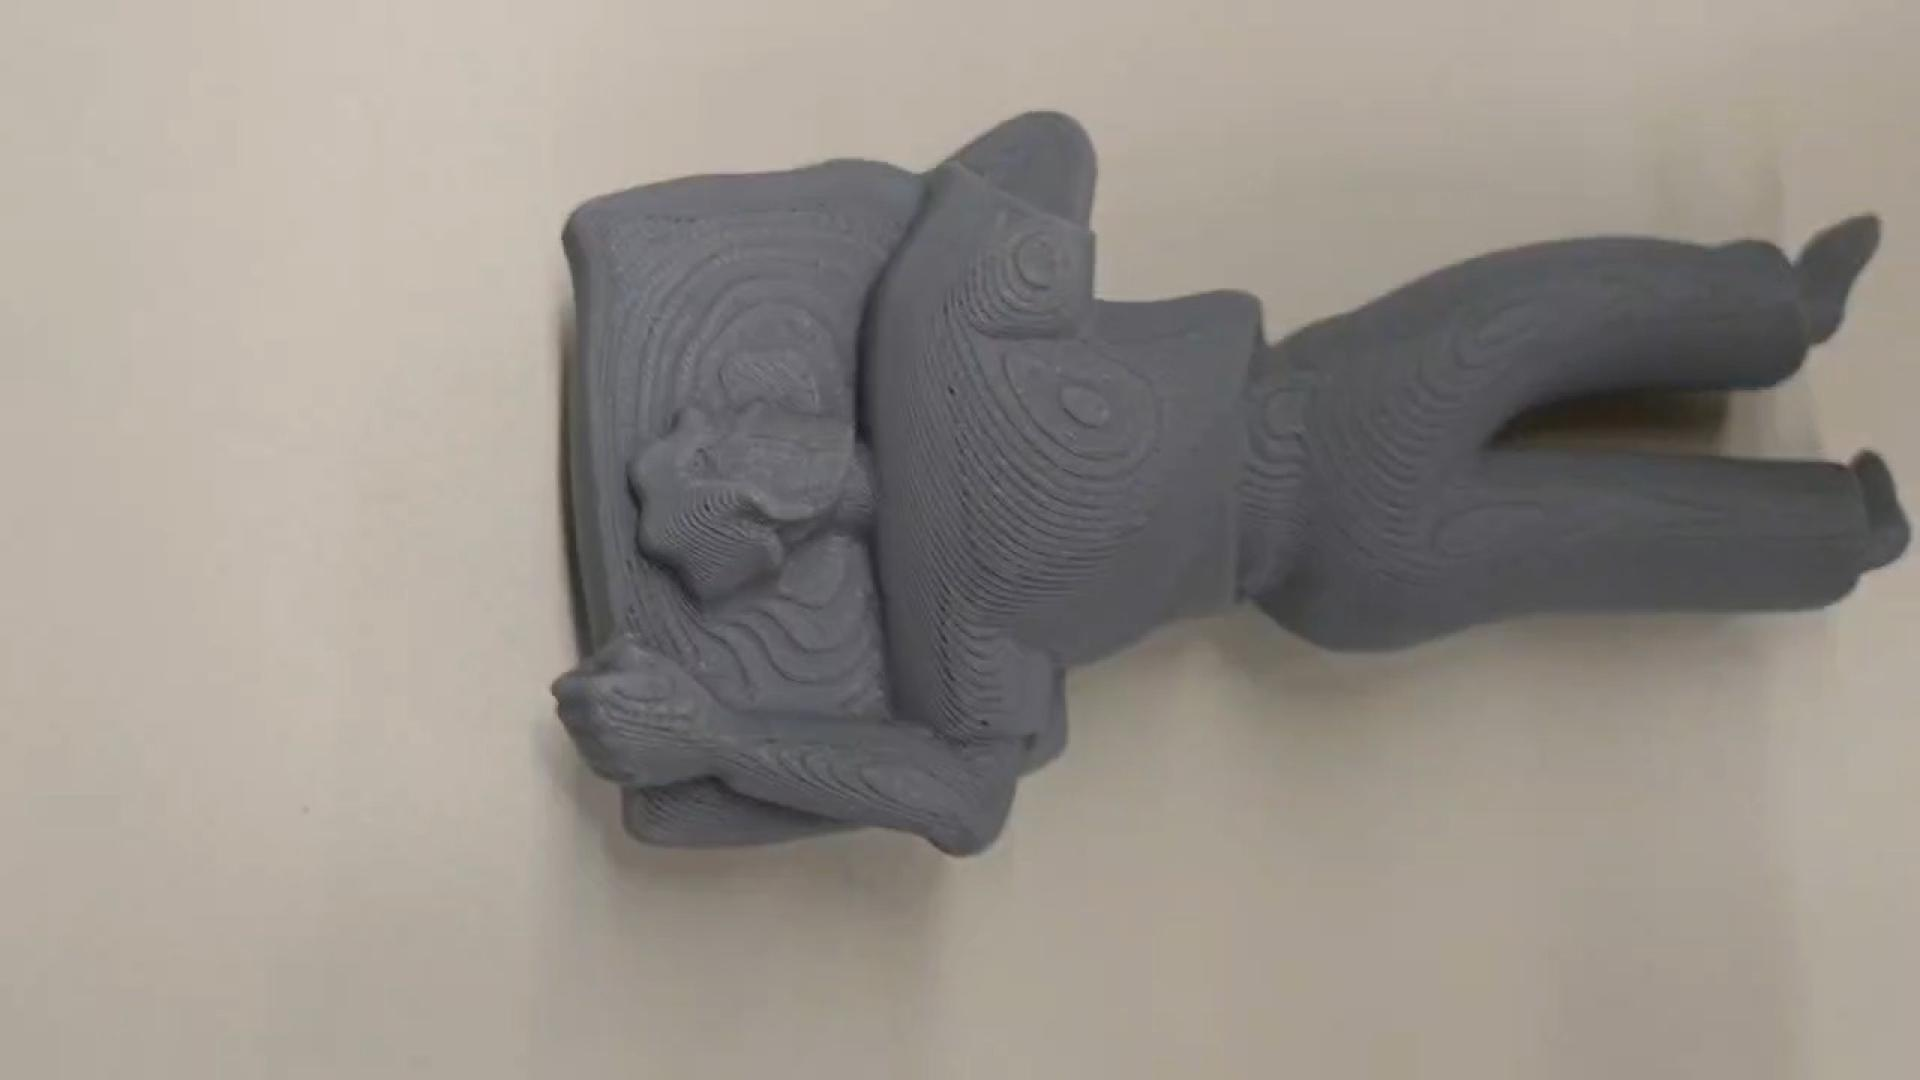Bad-style: (538, 102, 1920, 862)
